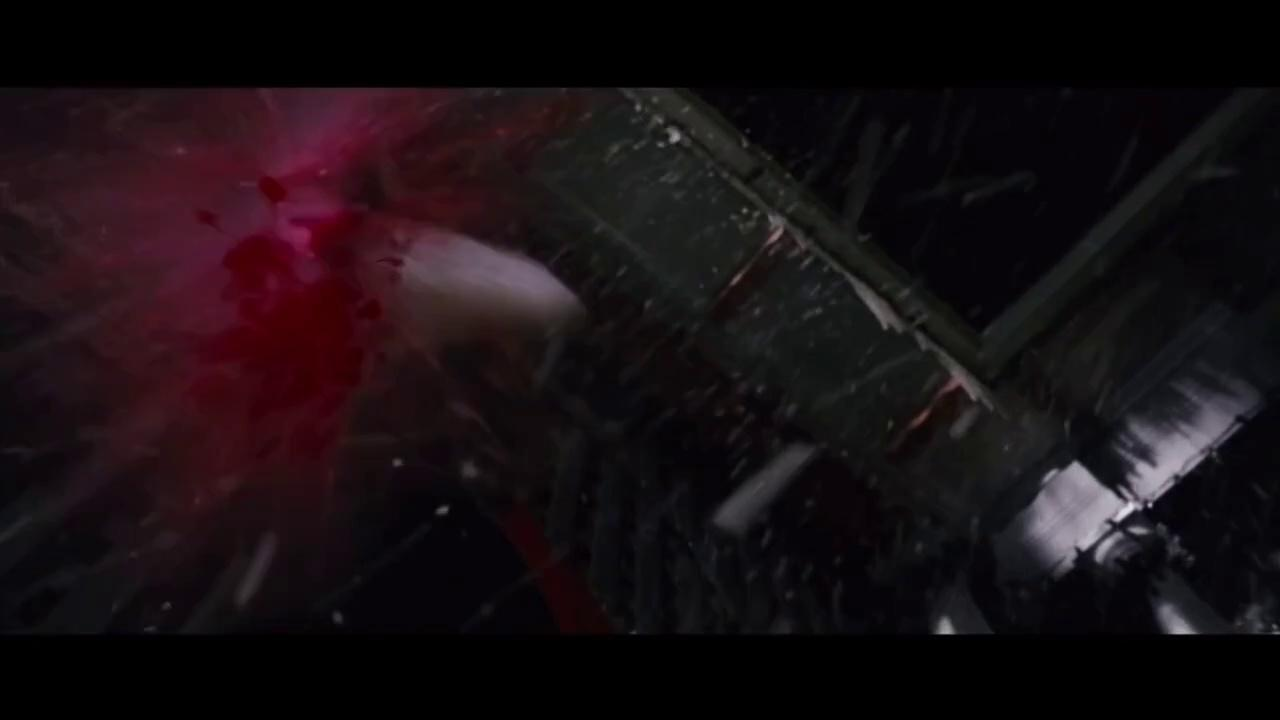Fire: (0, 89, 568, 493)
